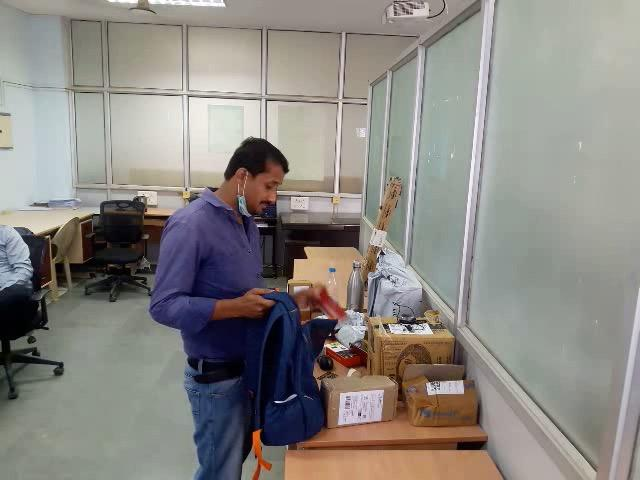shoplifting: (133, 234, 394, 476)
